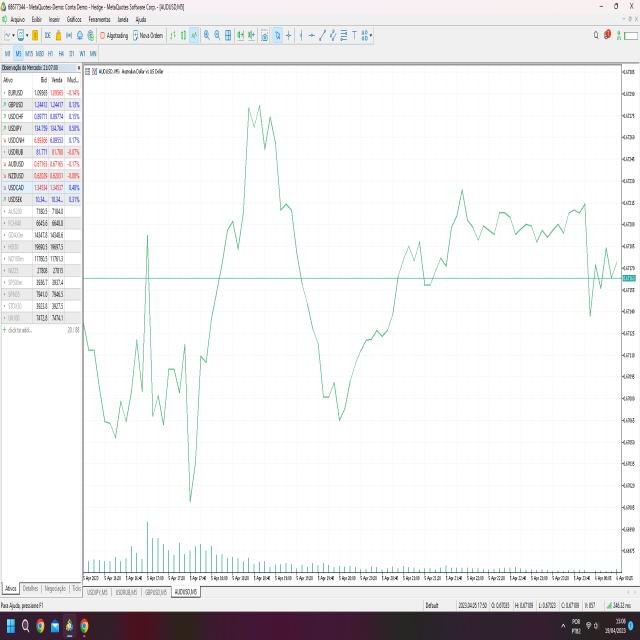bandeira_baixa: (581, 183, 616, 331)
oco: (215, 83, 312, 317)
